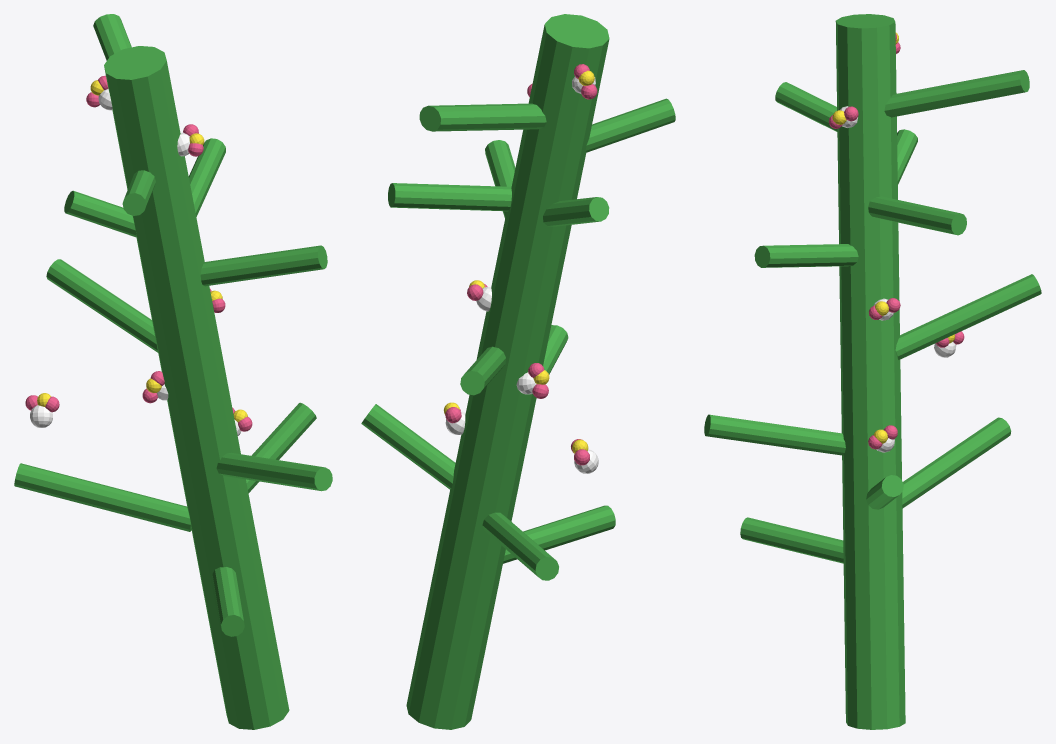
Rendered from cactus.obj.
3 renders of one model, left to right at view 1: azimuth 30°, elevation 25°; view 2: azimuth 150°, elevation 25°; view 3: azimuth 270°, elevation 25°, orthographic. The views are drawn at different scales.
Visible parts, largest first — view 1: group594527679, group2067074829, group1088061723, group396204914, group950579433, group129409282, group1465384799, group569027530, group1090968789, group1263069737, group841030680; view 2: group594527679, group1263069737, group1090968789, group1465384799, group841030680, group569027530, group2067074829, group129409282, group396204914, group1088061723, group950579433; view 3: group594527679, group396204914, group1263069737, group950579433, group2067074829, group569027530, group1088061723, group1090968789, group841030680, group1465384799, group129409282.
Boxes of the visible parts, x1,y1,x2,y2 form: group594527679: (104,46,289,729); group2067074829: (14,463,191,531); group1088061723: (200,245,327,286); group396204914: (46,259,157,352); group950579433: (216,452,332,491); group129409282: (64,190,136,237); group1465384799: (246,402,316,493); group569027530: (212,567,244,636); group1090968789: (188,138,225,216); group1263069737: (93,14,131,60); group841030680: (122,170,155,215); group594527679: (406,14,609,729); group1263069737: (419,103,546,131); group1090968789: (388,183,511,211); group1465384799: (361,404,455,489); group841030680: (585,98,675,152); group569027530: (503,505,615,563); group2067074829: (482,512,558,580); group129409282: (543,197,609,226); group396204914: (460,346,505,395); group1088061723: (485,140,515,218); group950579433: (543,325,568,374); group594527679: (835,14,905,729); group396204914: (895,274,1041,359); group1263069737: (884,70,1029,117); group950579433: (704,414,845,455); group2067074829: (902,417,1011,508); group569027530: (740,517,843,563); group1088061723: (754,244,858,267); group1090968789: (868,196,966,235); group841030680: (775,82,837,131); group1465384799: (866,475,903,509); group129409282: (897,129,917,184).
Bounding box in the file's own units: 0.3656 × 0.9577 × 0.4483.
